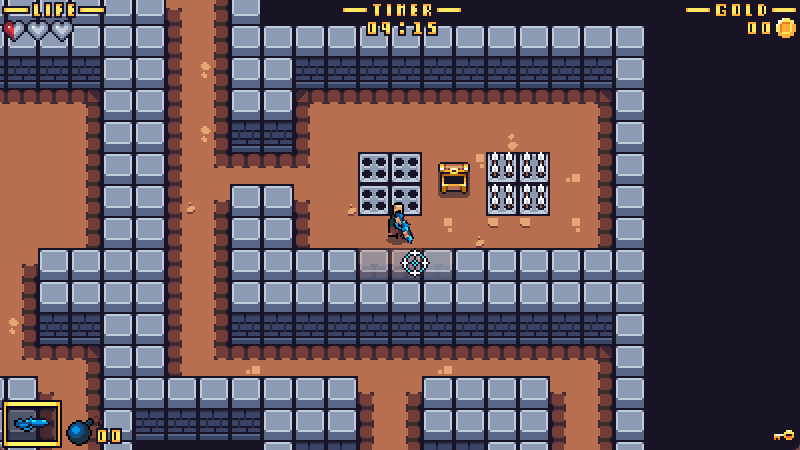aim: (401, 251, 430, 277)
bomb_counter_0: (66, 418, 122, 450)
gold_counter: (686, 1, 798, 38)
health-5: (1, 20, 77, 42)
key: (772, 429, 796, 442)
player: (388, 201, 416, 245)
timer: (341, 1, 461, 35)
trap_off: (359, 153, 423, 214)
trap_on: (486, 151, 551, 214)
treasury_open: (438, 161, 471, 198)
